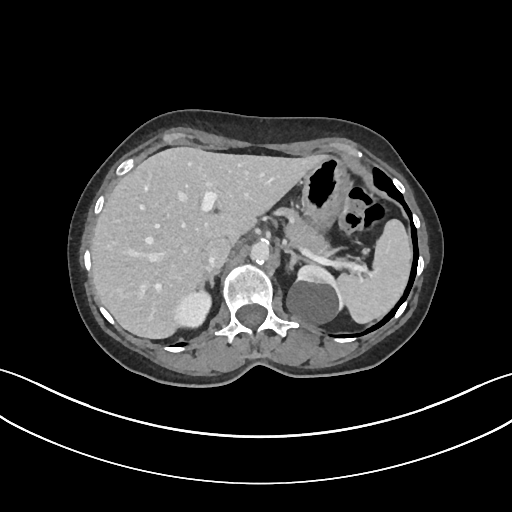Lesion: (280, 276, 342, 328)
